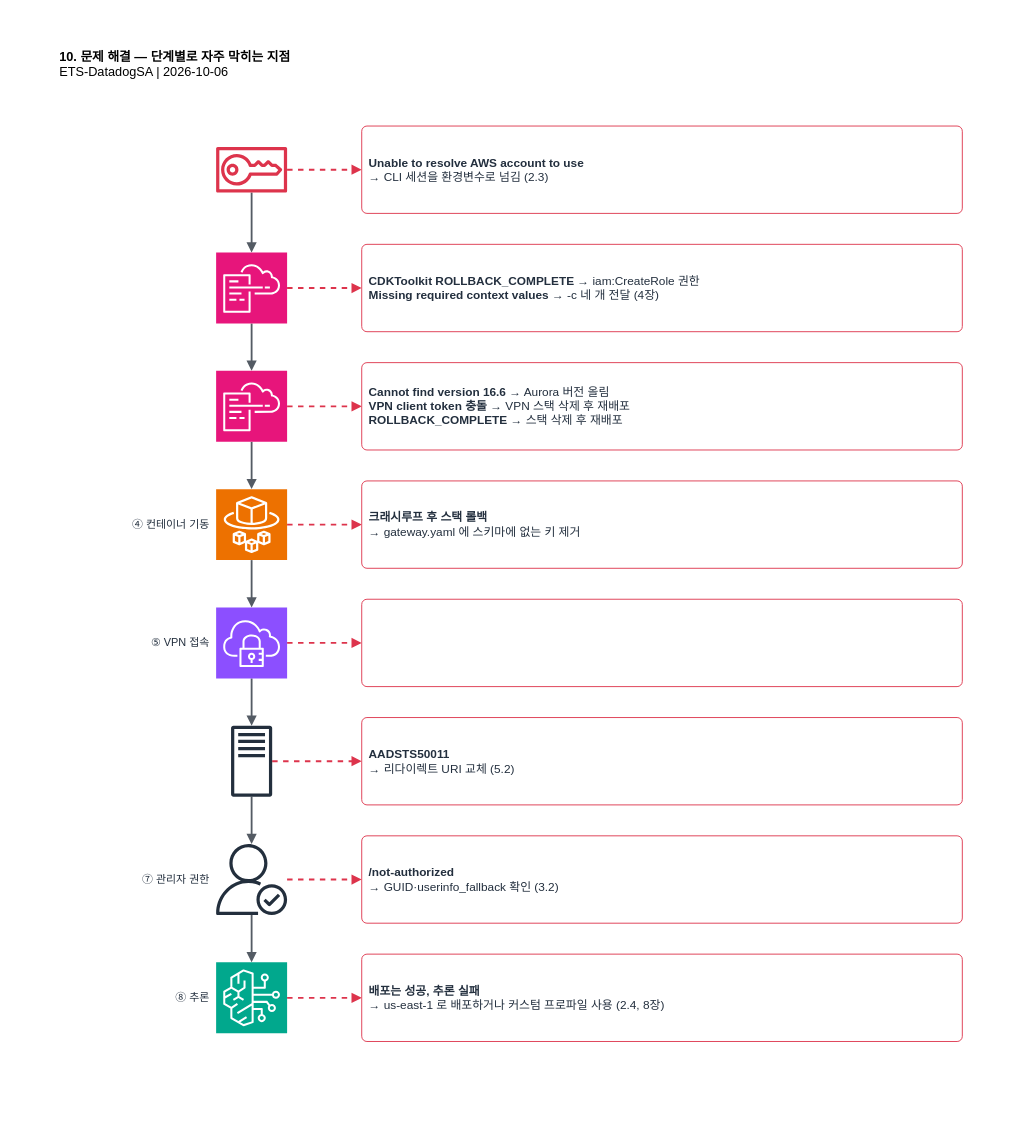
Some shapes in this 1014 by 1123 pixel diagram are drawn without their labels. Each missing label, with the centre of its shape:
"① 자격증명" goes at point (251, 169).
"② bootstrap" goes at point (251, 288).
"③ 스택 생성" goes at point (251, 406).
"⑥ Entra 사인인" goes at point (251, 760).
"사인인 페이지가 오류 없이 멈춤 → VPN 연결, split-tunnel 확인 (5.1)" goes at point (661, 642).
